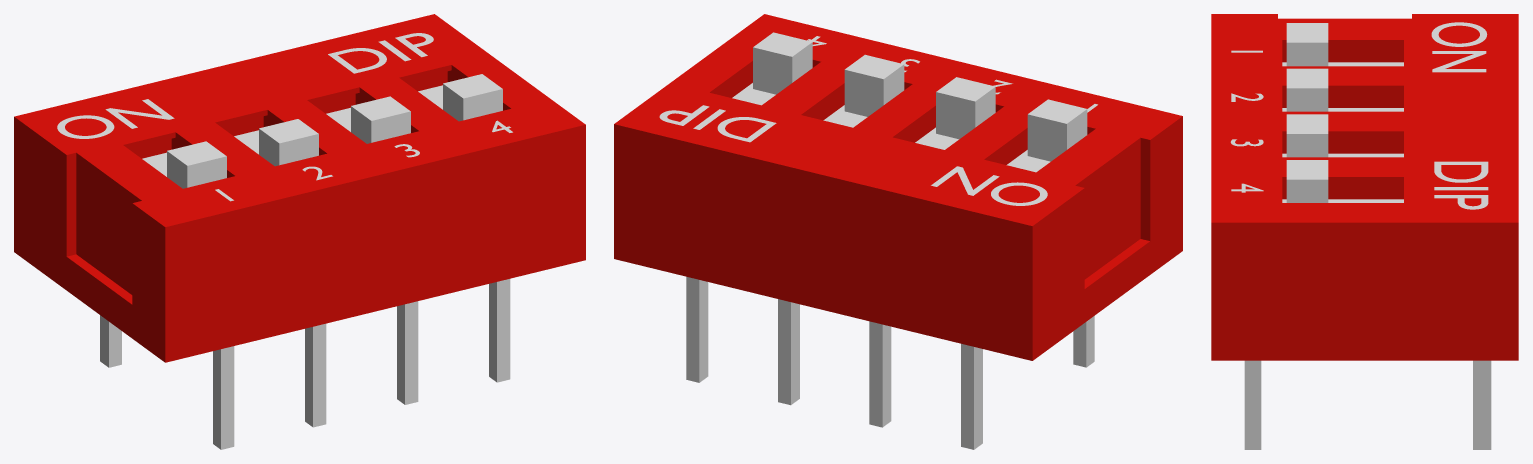
Rendered from DipSwitch.glb.
3 renders of one model, left to right at view 1: azimuth 30°, elevation 25°; view 2: azimuth 150°, elevation 25°; view 3: azimuth 270°, elevation 25°, orthographic. The views are drawn at different scales.
Visible parts, largest first — view 1: Dip Switch, Dip Switch.002, KXK, ON, Dip Switch.001; view 2: Dip Switch, Dip Switch.001, KXK, ON, Dip Switch.002; view 3: Dip Switch, Dip Switch.001, Dip Switch.002, KXK, ON.
Part boxes in pixels (x1,y1,x2,y2): Dip Switch: (14,14,585,362); Dip Switch.002: (213,279,510,449); KXK: (328,33,433,73); ON: (57,99,174,138); Dip Switch.001: (100,315,121,367); Dip Switch: (614,14,1182,360); Dip Switch.001: (686,276,982,449); KXK: (659,105,776,142); ON: (931,166,1047,205); Dip Switch.002: (1073,316,1094,367); Dip Switch: (1211,14,1518,360); Dip Switch.001: (1473,360,1491,449); Dip Switch.002: (1244,360,1261,449); KXK: (1434,161,1488,209); ON: (1431,22,1487,72).
Size of the model in its own units: 0.291 by 0.18 by 0.1812.
